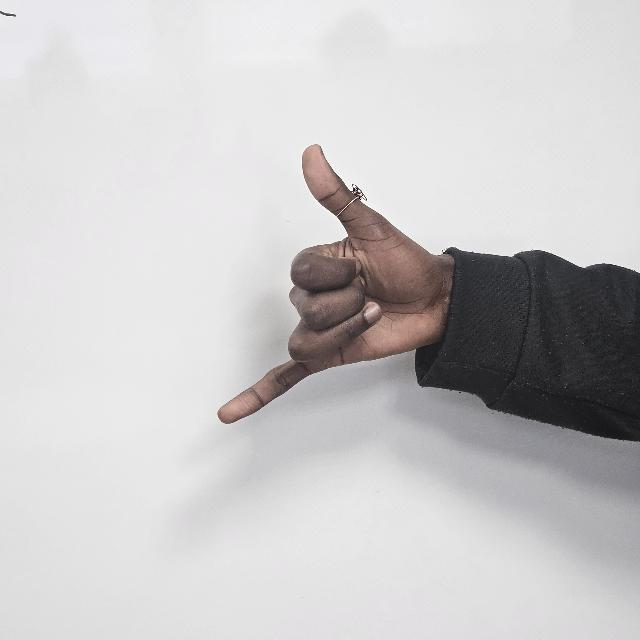Direita: (213, 138, 452, 458)
